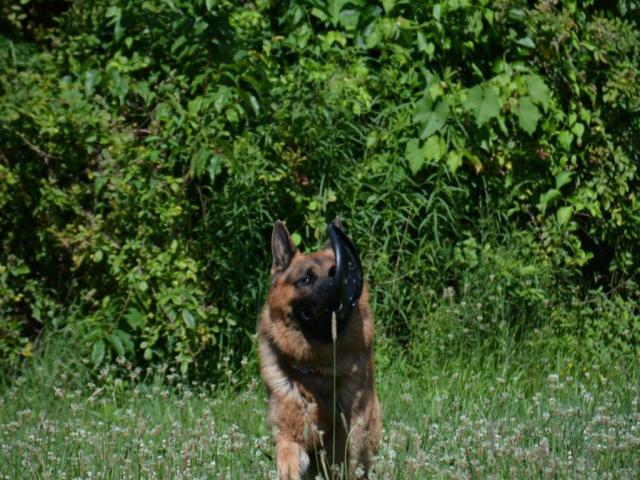Dog: (255, 216, 384, 480)
